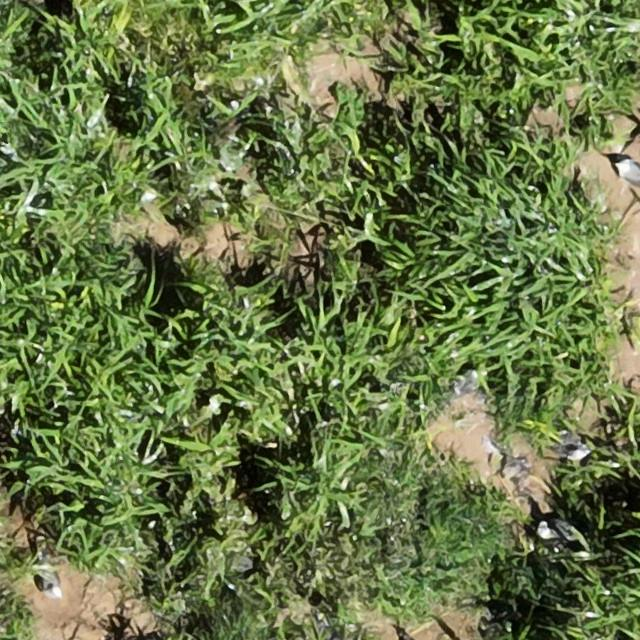umineko: (618, 161, 640, 188)
